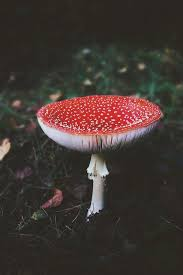Amanita muscaria: (25, 86, 171, 216)
